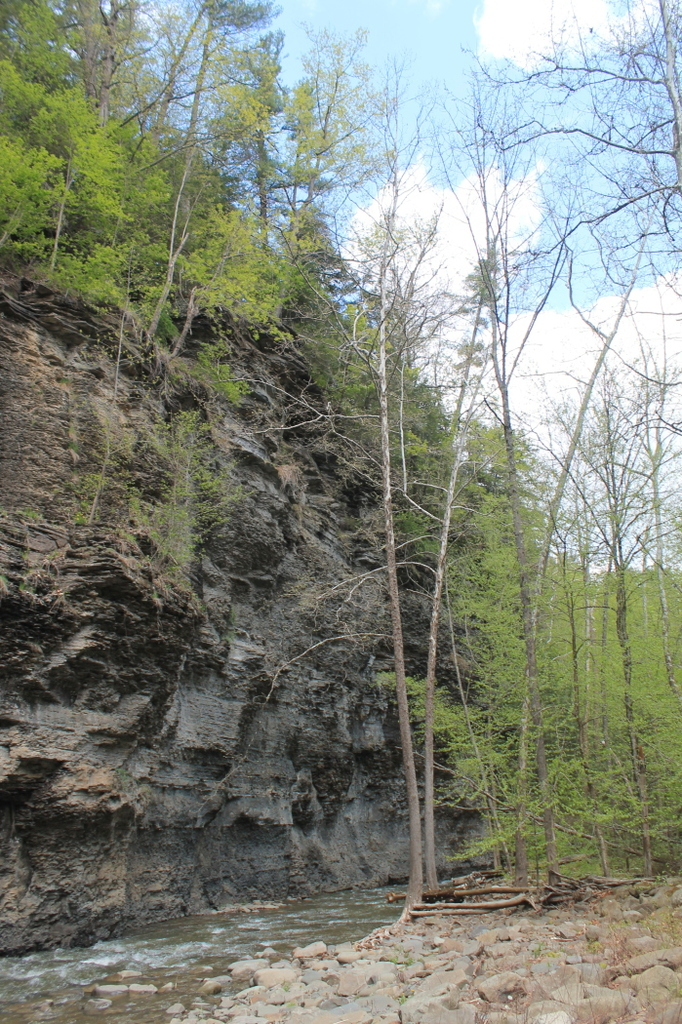Tree: (0, 0, 681, 952), (361, 102, 539, 924), (481, 1, 681, 526), (377, 84, 471, 926), (533, 329, 681, 863), (533, 394, 681, 869), (0, 0, 246, 260), (214, 12, 397, 359), (162, 0, 290, 295), (67, 0, 190, 288)
